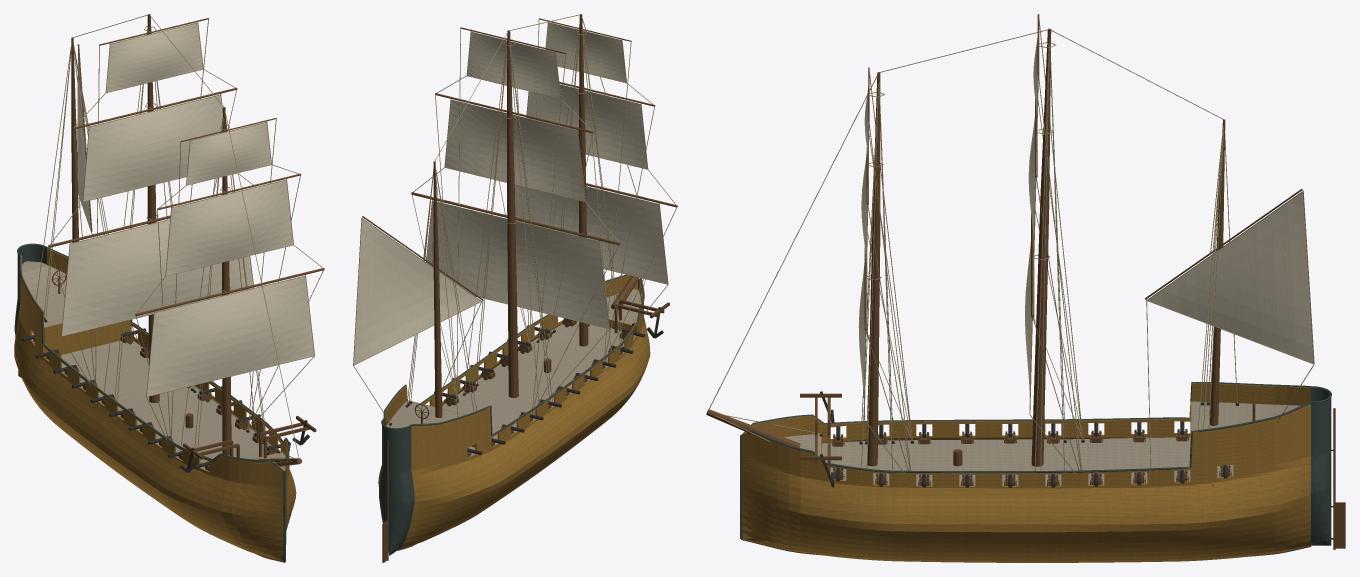
3 views of the same model, side by side, from view 1: azimuth 30°, elevation 25°; view 2: azimuth 150°, elevation 25°; view 3: azimuth 270°, elevation 25° (orthographic). The views are drawn at different scales.
Parts seen in each view (by area): view 1: lod2_hull_shell_starboard, lod2_fore_square_00, lod2_main_square_00, lod2_main_square_01, lod2_main_deck, lod2_fore_square_01, lod2_main_square_02, lod2_fore_square_02, lod2_hull_shell_port, lod2_castle_deck_0, lod2_castle_bulkhead_0_1, lod2_mizzen (+9 smaller); view 2: lod2_hull_shell_starboard, lod2_main_square_00, lod2_mizzen_lateen_00, lod2_main_square_01, lod2_fore_square_00, lod2_main_deck, lod2_fore_square_01, lod2_main_square_02, lod2_stern_closure, lod2_main, lod2_fore_square_02, lod2_hull_shell_port (+16 smaller); view 3: lod2_hull_shell_port, lod2_mizzen_lateen_00, lod2_main_deck, lod2_hull_shell_starboard, lod2_main, lod2_stern_closure, lod2_fore, lod2_castle_deck_0, lod2_gunwale_port, lod2_mizzen, lod2_gunwale_starboard.
Boxes of the visible parts, x1=… form: lod2_hull_shell_starboard: x1=14, y1=255, x2=283, y2=560; lod2_fore_square_00: x1=147, y1=276, x2=314, y2=396; lod2_main_square_00: x1=62, y1=220, x2=253, y2=335; lod2_main_square_01: x1=83, y1=95, x2=222, y2=201; lod2_main_deck: x1=32, y1=331, x2=270, y2=470; lod2_fore_square_01: x1=166, y1=180, x2=293, y2=275; lod2_main_square_02: x1=106, y1=23, x2=202, y2=92; lod2_fore_square_02: x1=186, y1=122, x2=271, y2=184; lod2_hull_shell_port: x1=46, y1=248, x2=296, y2=530; lod2_castle_deck_0: x1=22, y1=261, x2=66, y2=327; lod2_castle_bulkhead_0_1: x1=44, y1=320, x2=129, y2=357; lod2_mizzen: x1=71, y1=37, x2=78, y2=242; lod2_hull_shell_starboard: x1=398, y1=278, x2=650, y2=549; lod2_main_square_00: x1=426, y1=201, x2=609, y2=328; lod2_mizzen_lateen_00: x1=353, y1=219, x2=480, y2=364; lod2_main_square_01: x1=445, y1=100, x2=585, y2=201; lod2_fore_square_00: x1=514, y1=185, x2=667, y2=283; lod2_main_deck: x1=442, y1=321, x2=635, y2=456; lod2_fore_square_01: x1=527, y1=85, x2=647, y2=168; lod2_main_square_02: x1=467, y1=32, x2=560, y2=98; lod2_stern_closure: x1=379, y1=419, x2=414, y2=555; lod2_main: x1=507, y1=30, x2=518, y2=397; lod2_fore_square_02: x1=546, y1=23, x2=626, y2=82; lod2_hull_shell_port: x1=378, y1=275, x2=637, y2=488; lod2_hull_shell_port: x1=741, y1=403, x2=1310, y2=562; lod2_mizzen_lateen_00: x1=1148, y1=192, x2=1313, y2=363; lod2_main_deck: x1=822, y1=437, x2=1233, y2=486; lod2_hull_shell_starboard: x1=741, y1=383, x2=1310, y2=443; lod2_main: x1=1031, y1=28, x2=1051, y2=466; lod2_stern_closure: x1=1311, y1=387, x2=1331, y2=545; lod2_fore: x1=867, y1=72, x2=880, y2=466; lod2_castle_deck_0: x1=1191, y1=401, x2=1300, y2=430; lod2_gunwale_port: x1=741, y1=401, x2=1311, y2=472; lod2_mizzen: x1=1210, y1=119, x2=1225, y2=425; lod2_gunwale_starboard: x1=741, y1=382, x2=1310, y2=434.
Bounding box in the file's own units: 17.74 × 36.74 × 39.96.
7 materials, 7 textured.
